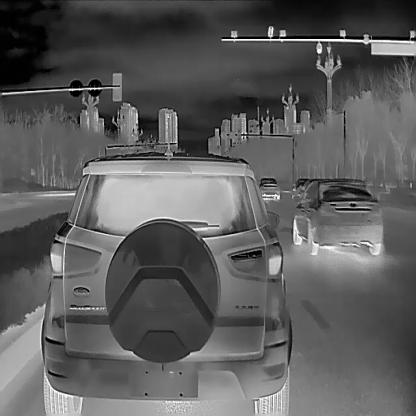car: (40, 152, 296, 415), (291, 177, 384, 255), (258, 176, 280, 200), (294, 178, 318, 197)
